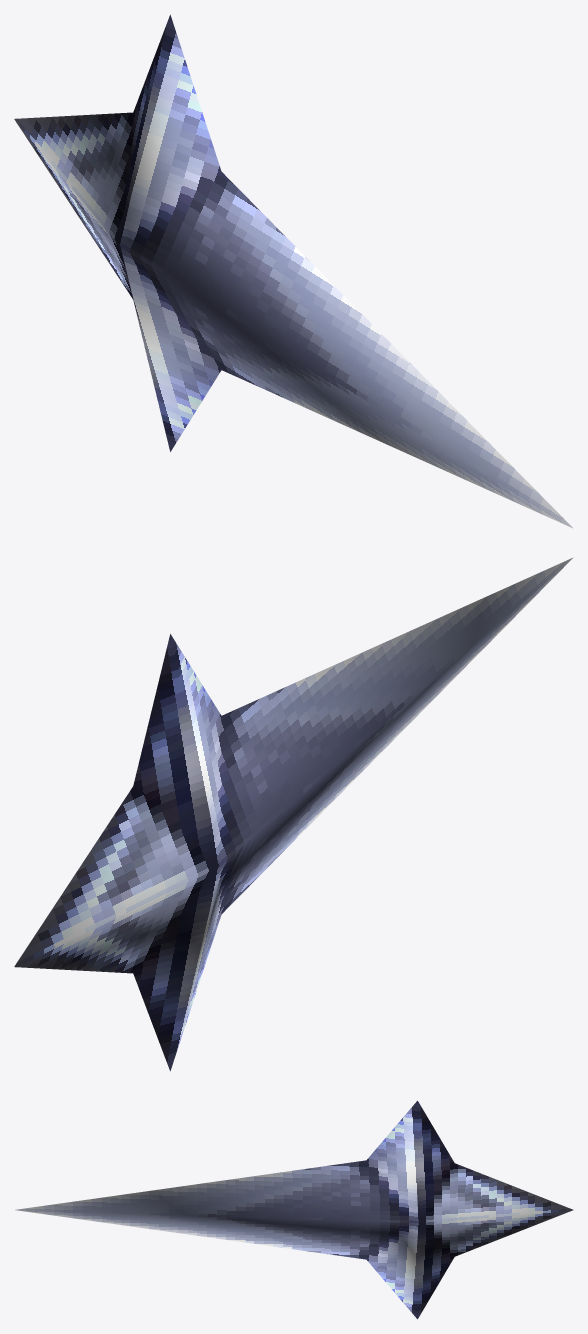
File: 5_Mon_Assassin_02_w_01.FBX
3 views of the same model, one above another, from view 1: azimuth 30°, elevation 25°; view 2: azimuth 150°, elevation 25°; view 3: azimuth 270°, elevation 25° (orthographic). The views are drawn at different scales.
Parts seen in each view (by area): view 1: 5_Mon_Assassin_02_w_01; view 2: 5_Mon_Assassin_02_w_01; view 3: 5_Mon_Assassin_02_w_01.
Part boxes in pixels (x1,y1,x2,y2): 5_Mon_Assassin_02_w_01: (14, 14, 573, 528); 5_Mon_Assassin_02_w_01: (14, 557, 573, 1071); 5_Mon_Assassin_02_w_01: (15, 1100, 573, 1319).
Size of the model in its own units: 0.0866 by 0.36 by 0.8339.
1 material, 1 textured.
